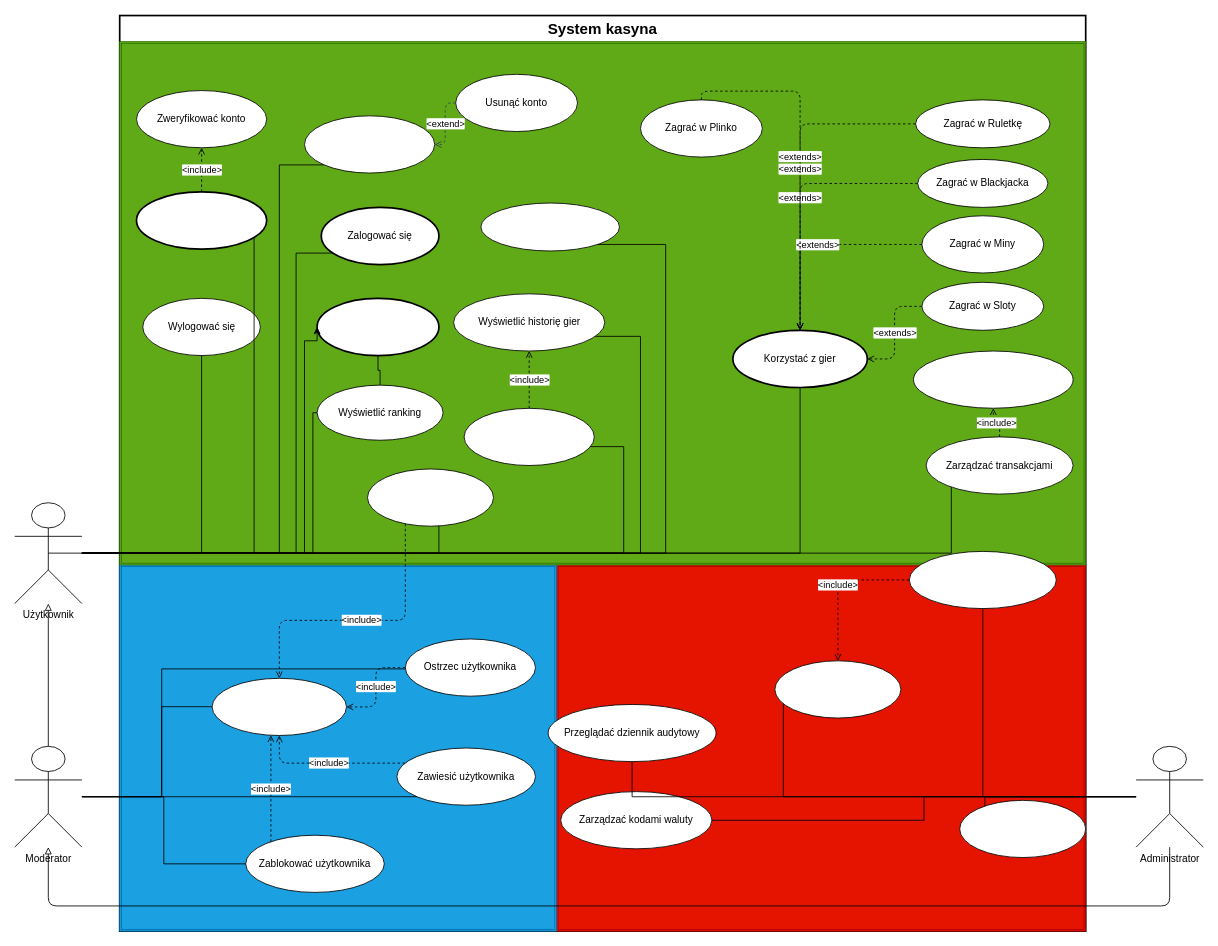
Some shapes in this 1218 by 946 pixel diagram are drawn without their labels. Each missing label, with the box of its shape:
Sprawdzić saldo: (316, 297, 439, 356)
Wyszukać użytkownika: (211, 677, 346, 736)
Wyświetlić historię transakcji: (913, 350, 1073, 408)
Wyświetlić statystyki: (463, 407, 594, 466)
Zarejestrować konto: (135, 191, 267, 250)
Zarządzać grami: (959, 800, 1086, 858)
Zarządzać profilem: (304, 115, 435, 173)
Zarządzać rolami: (774, 660, 901, 718)
Zarządzać użytkownikami: (908, 551, 1056, 609)
Zgłosić użytkownika: (367, 468, 494, 526)
Zrealizować kod waluty: (480, 202, 620, 251)
